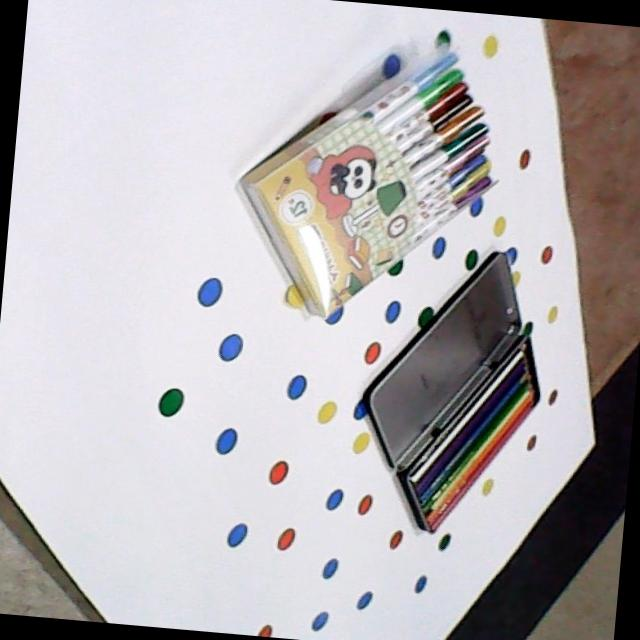color: (390, 325, 553, 544)
signpen: (225, 25, 508, 336)
